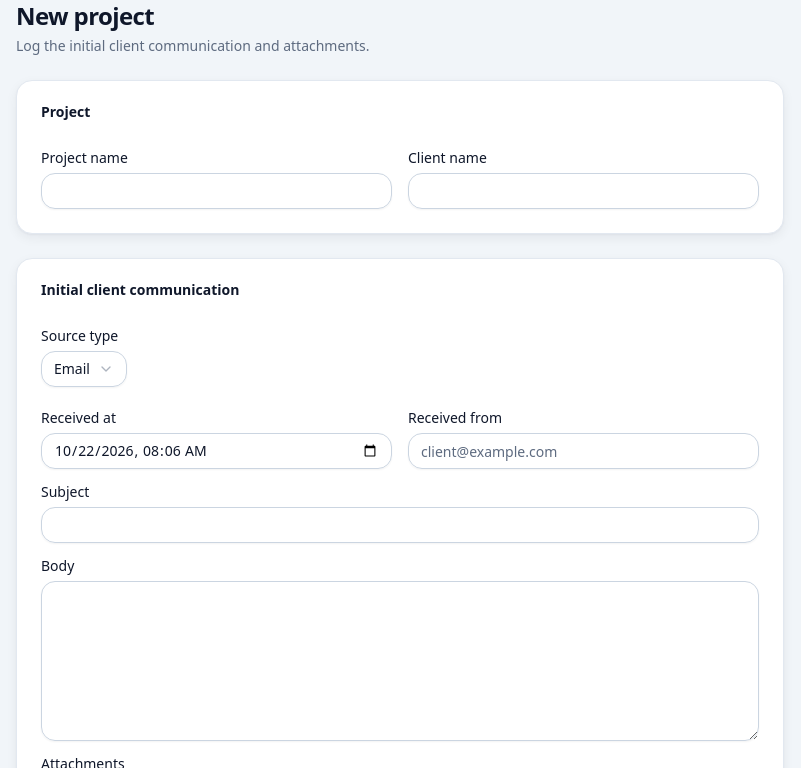
Test case: NewProjectPage › blocks submit without body and files
The width and height of the screenshot is (801, 768).
Step 1. Type "P" into the field labelled "Project name" → (216,191), box [41,173,392,209]
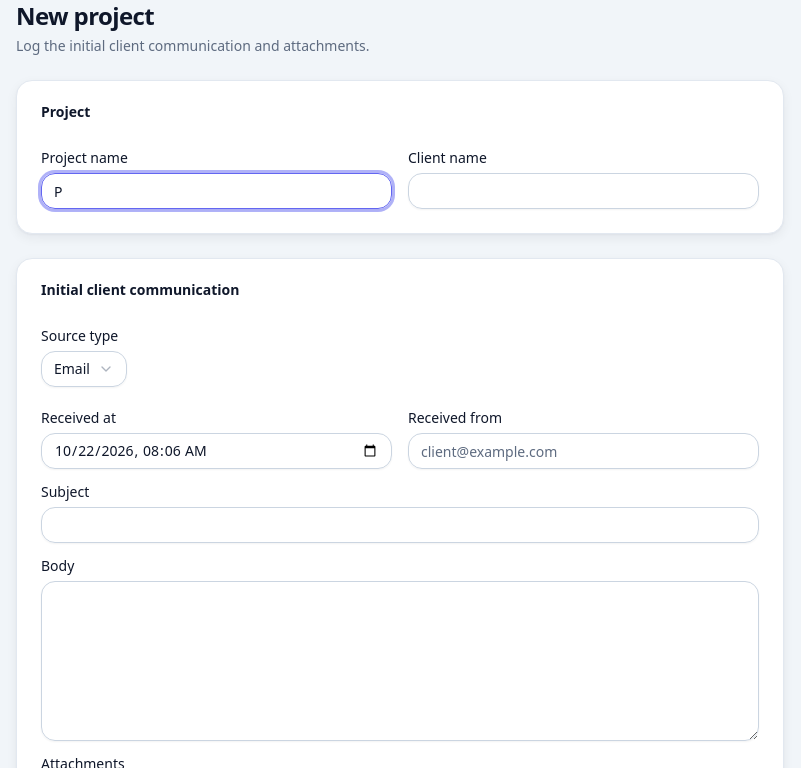
Step 2. Type "C" into the field labelled "Client name" → (584,191), box [408,173,759,209]
(page scrolled)
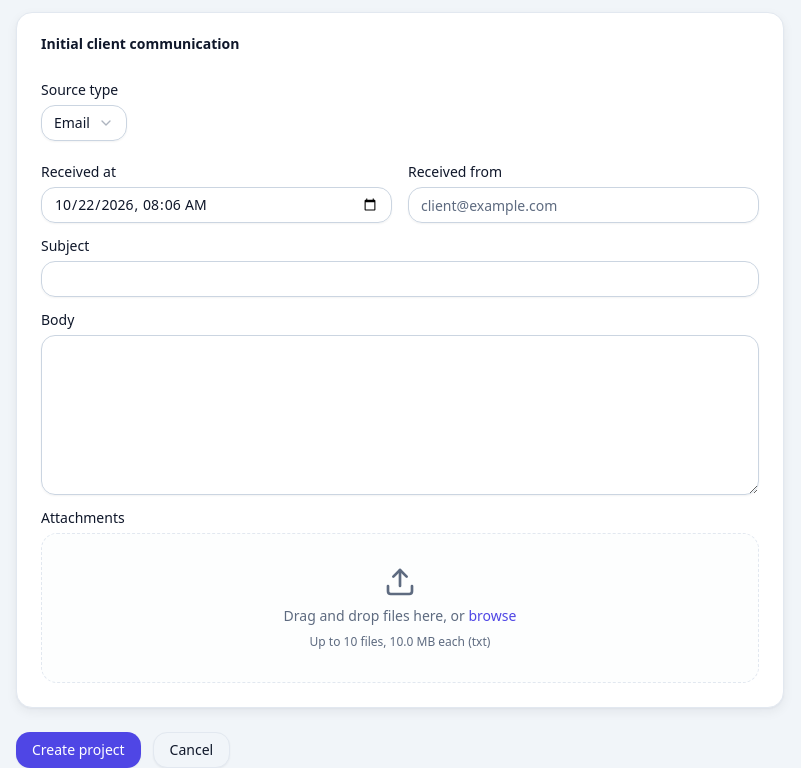
Step 3. Click the button "Create project" → (78,750), box [16,732,141,767]
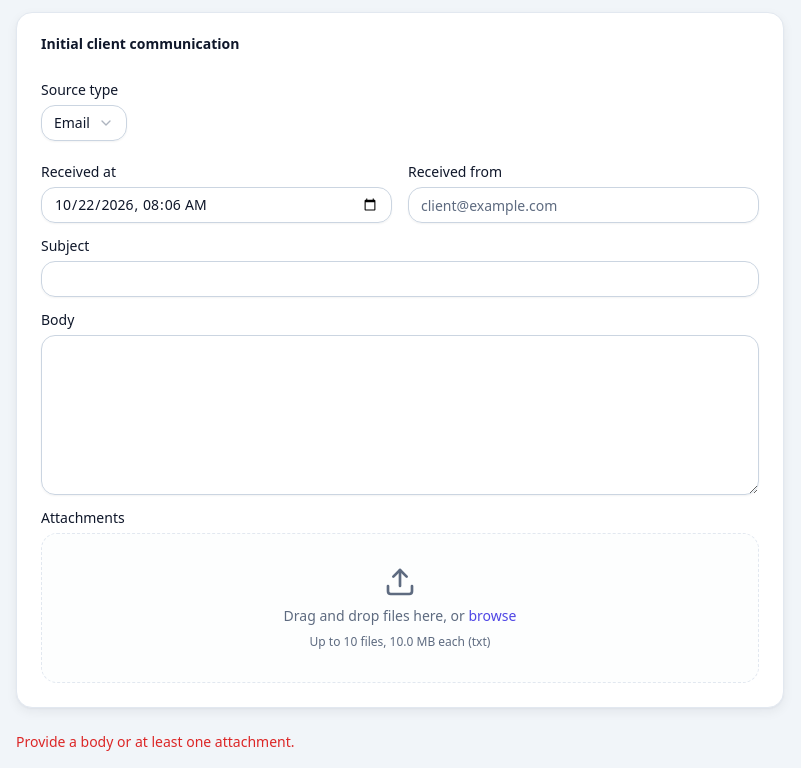
expect the text "Provide a body or at least one attachment." is shown: met, box [16,732,294,751]
